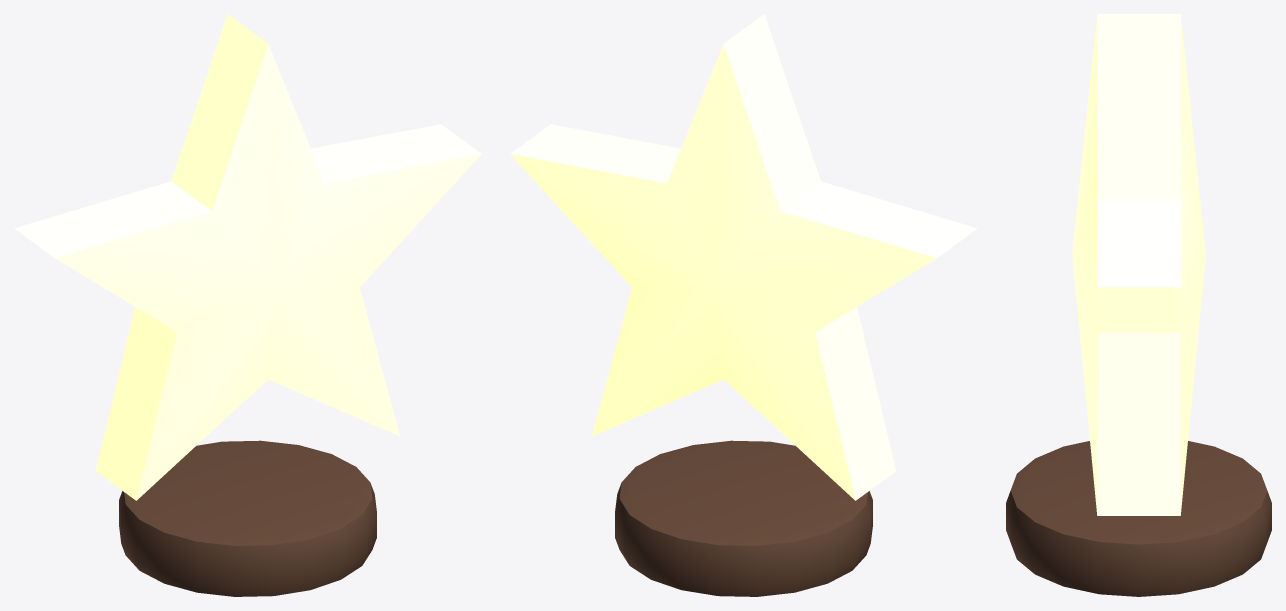
File: star_lamp.fbx
The picture shows the model from 3 angles, left to right: view 1: azimuth 30°, elevation 25°; view 2: azimuth 150°, elevation 25°; view 3: azimuth 270°, elevation 25°; orthographic projection. The views are drawn at different scales.
Visible parts, largest first — view 1: star_lamp; view 2: star_lamp; view 3: star_lamp.
Boxes of the visible parts, box(x1,y1,x2,y2) form: star_lamp: box(14, 14, 481, 596); star_lamp: box(510, 14, 977, 596); star_lamp: box(1006, 14, 1271, 596).
Size of the model in its own units: 0.1331 by 0.154 by 0.07.
